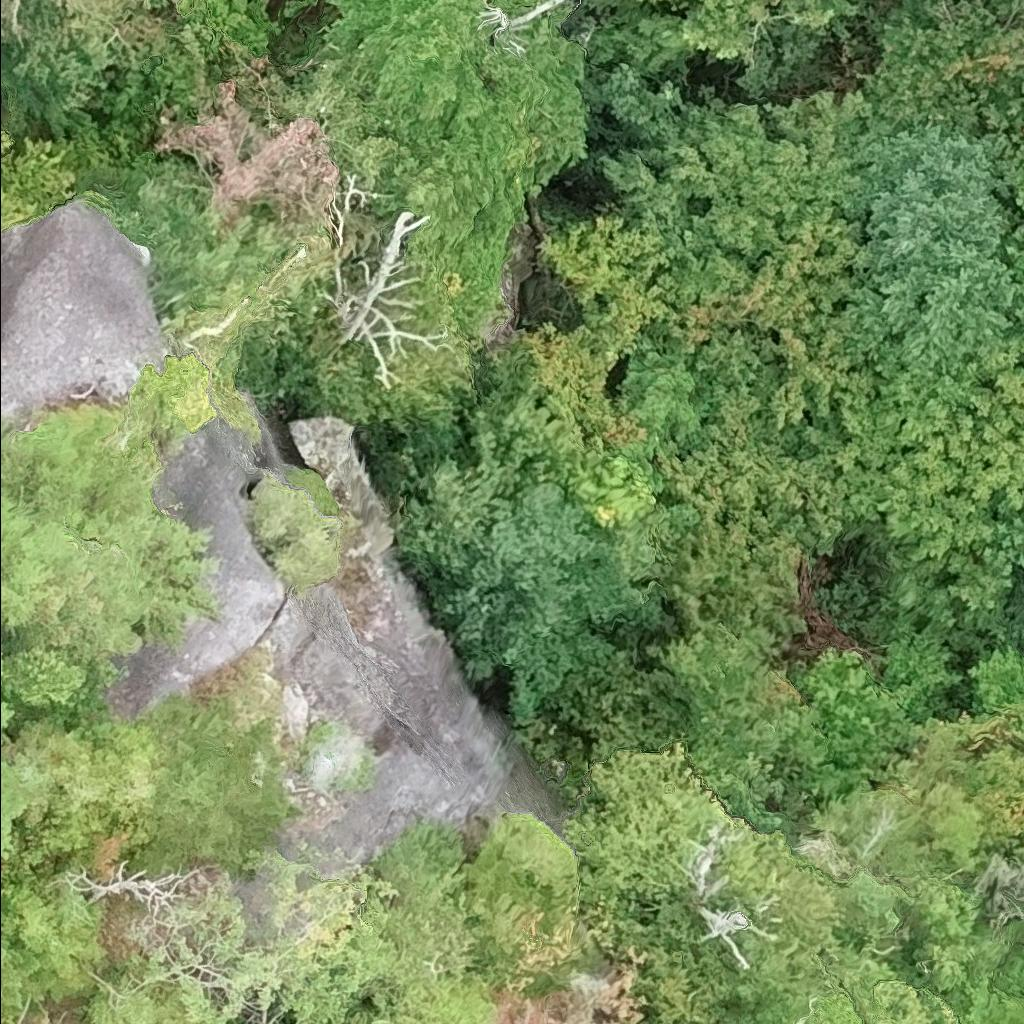crown: (596, 80, 867, 348), (659, 310, 876, 600), (831, 115, 1023, 395), (835, 329, 1023, 566), (862, 0, 1023, 132), (0, 883, 107, 998), (806, 958, 958, 1023), (0, 933, 48, 1023), (1002, 144, 1023, 323), (0, 698, 15, 730), (0, 656, 5, 684)
